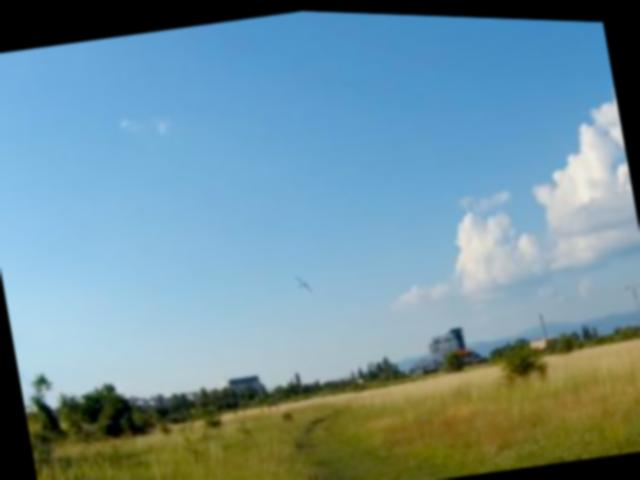uav: (282, 258, 322, 301)
